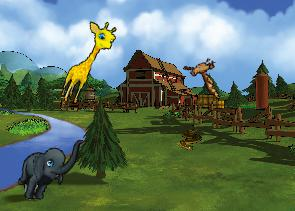eagle: (176, 49, 233, 101)
elephant: (14, 128, 84, 208)
giraffe: (57, 16, 120, 110)
